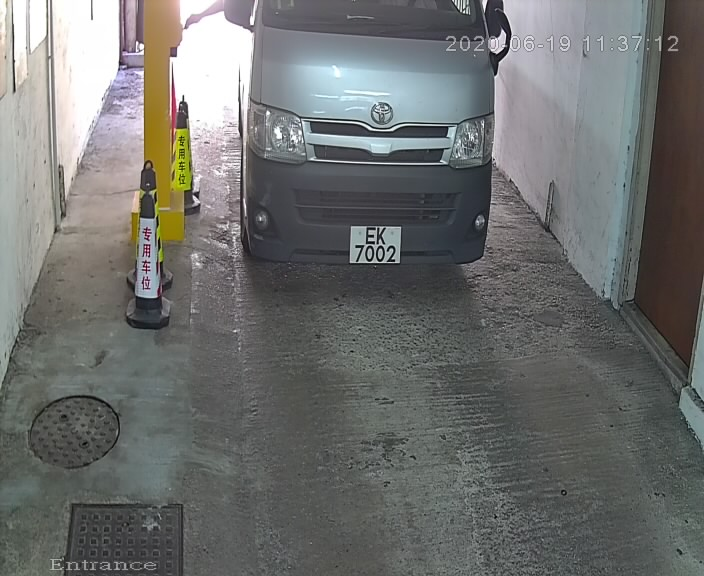privatecar: (207, 3, 523, 308)
